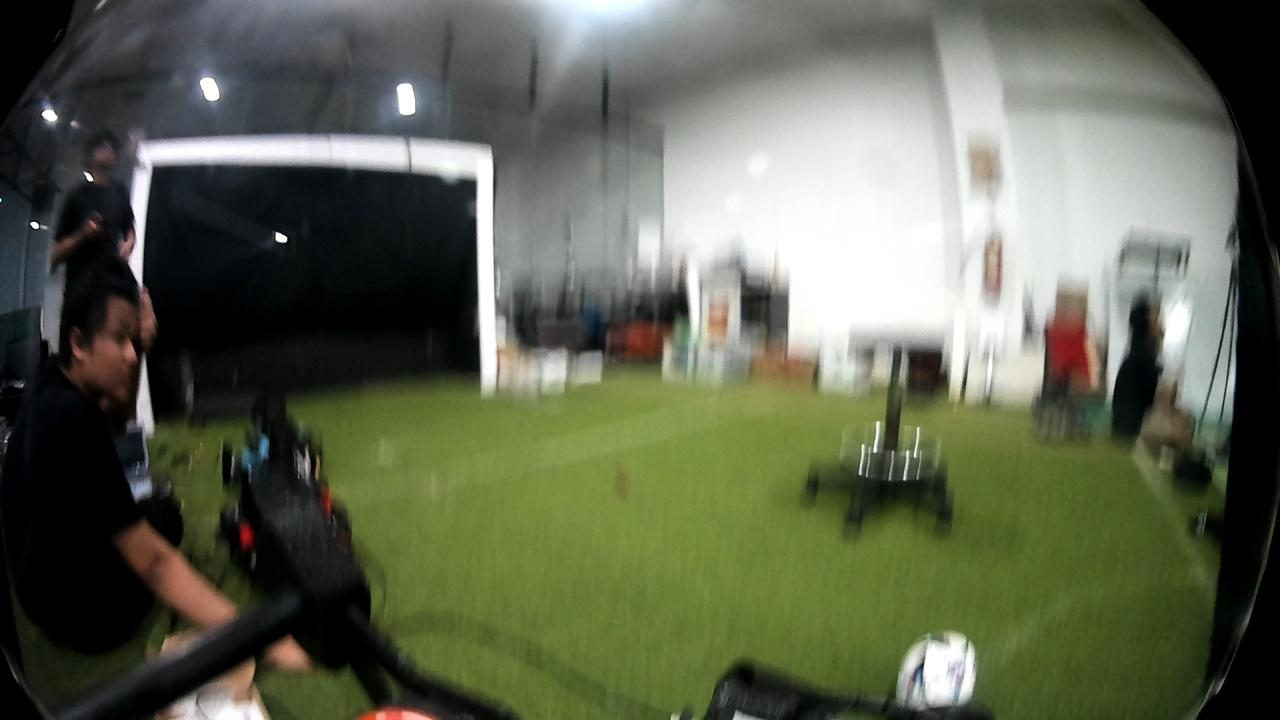ball: (886, 632, 977, 712)
